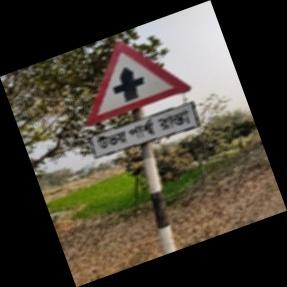Crossroad: (83, 40, 198, 165)
